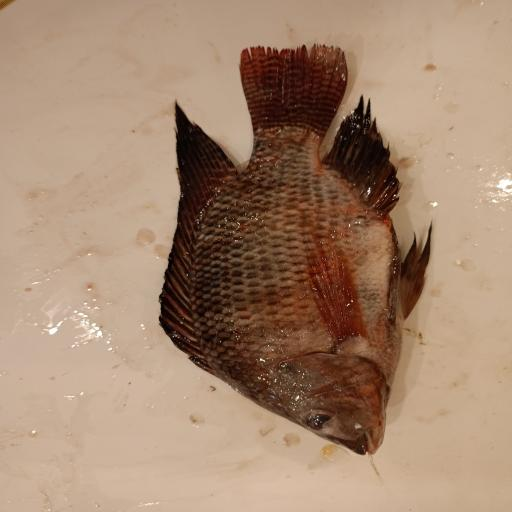Tilapia: (159, 43, 433, 456)
